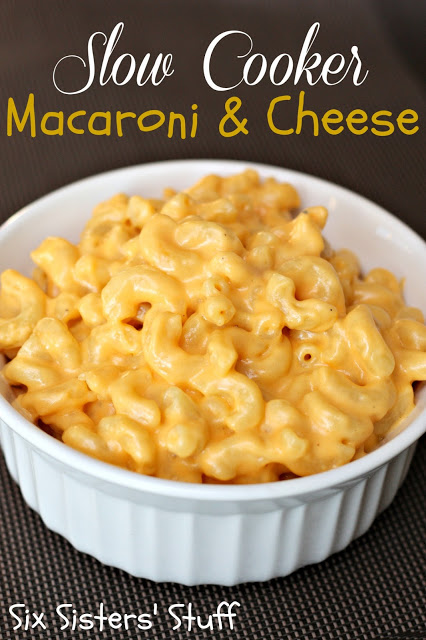macncheese: (2, 167, 426, 483)
